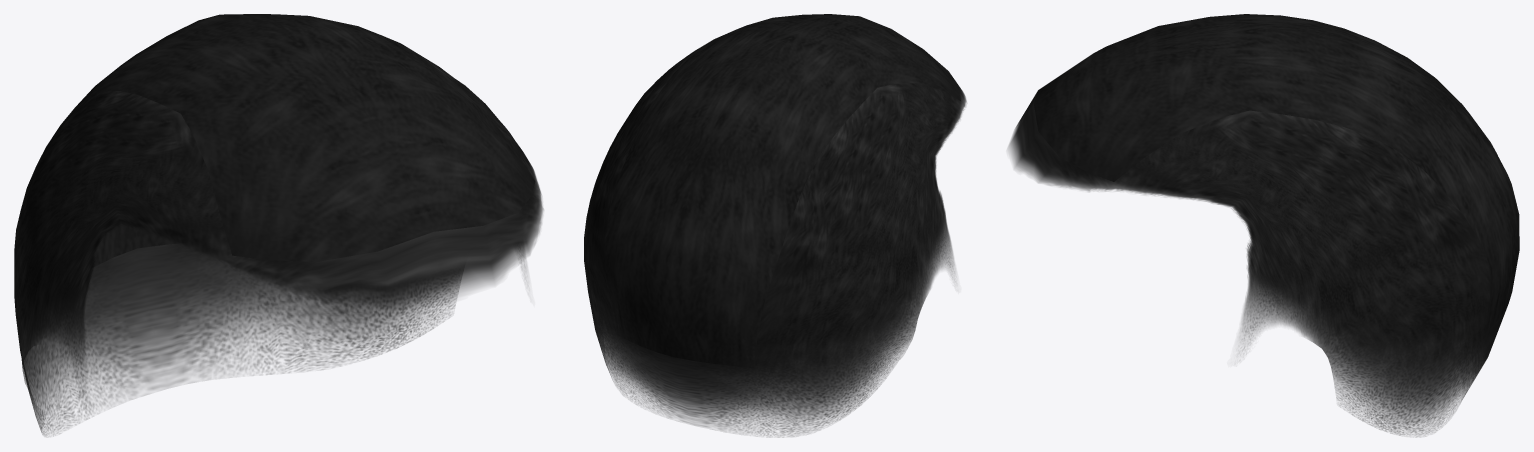
File: Oval_Straight_01.glb
The picture shows the model from 3 angles, left to right: view 1: azimuth 30°, elevation 25°; view 2: azimuth 150°, elevation 25°; view 3: azimuth 270°, elevation 25°; orthographic projection. The views are drawn at different scales.
Visible parts, largest first — view 1: oval straight 01 buzz cut; view 2: oval straight 01 buzz cut; view 3: oval straight 01 buzz cut.
Part boxes in pixels (box(x1,y1,x2,y2)): oval straight 01 buzz cut: box(14, 14, 543, 436); oval straight 01 buzz cut: box(584, 14, 966, 437); oval straight 01 buzz cut: box(1008, 14, 1519, 437).
Bounding box in the file's own units: 0.1847 × 0.1742 × 0.2264.
1 material, 1 textured.
